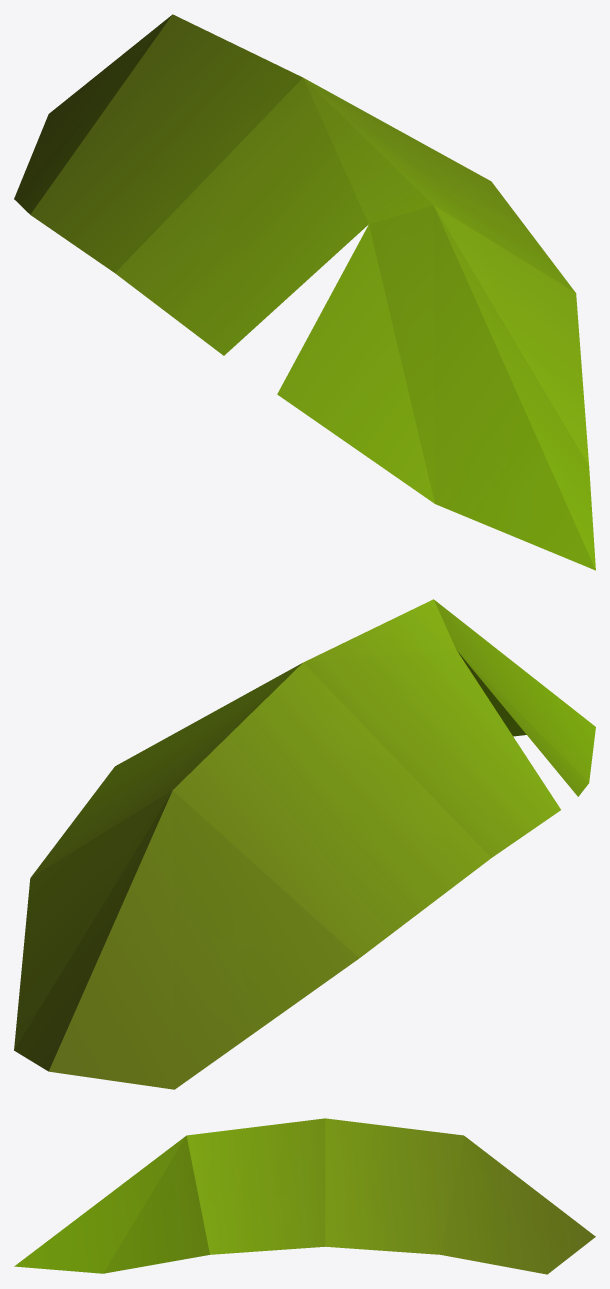
The model's file is Palm_Leaf_C.fbx.
3 views of the same model, one above another, from view 1: azimuth 30°, elevation 25°; view 2: azimuth 150°, elevation 25°; view 3: azimuth 270°, elevation 25° (orthographic). The views are drawn at different scales.
Visible parts, largest first — view 1: Palm_Leaf_C; view 2: Palm_Leaf_C; view 3: Palm_Leaf_C.
Part boxes in pixels (x1,y1,x2,y2): Palm_Leaf_C: (14, 14, 595, 570); Palm_Leaf_C: (14, 599, 595, 1089); Palm_Leaf_C: (14, 1118, 595, 1274).
Size of the model in its own units: 61.23 by 154 by 43.33.
Materials: 1 (1 with a texture image).
